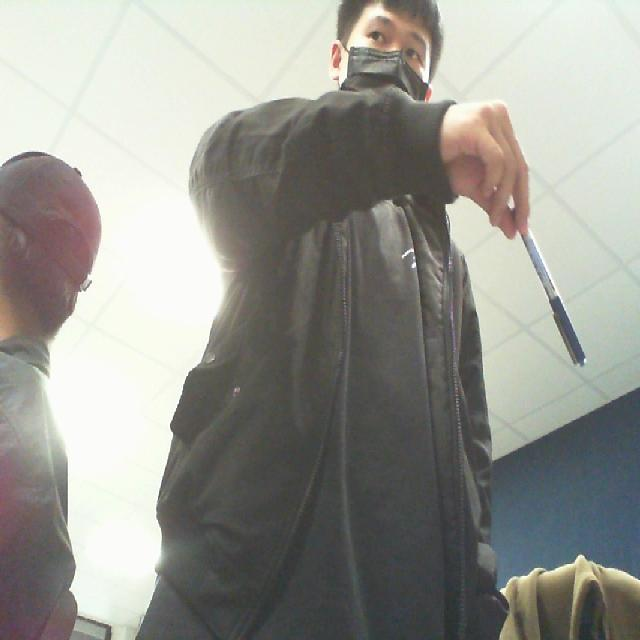Pen: (507, 206, 608, 385)
